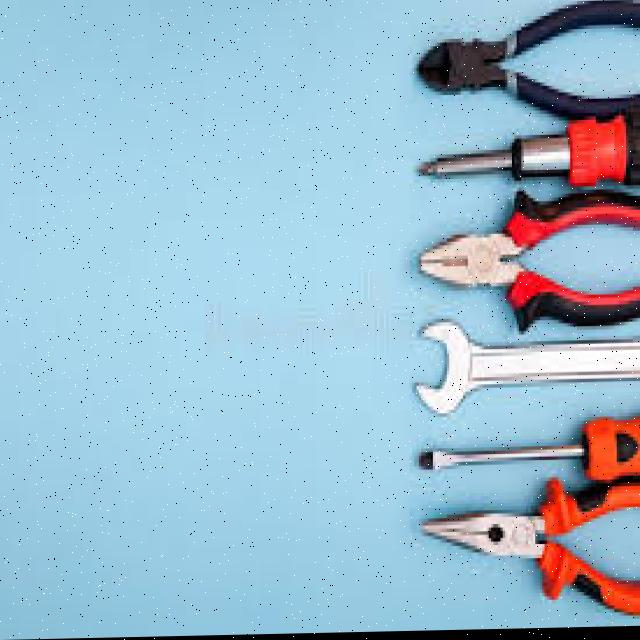Screwdriver: (419, 111, 640, 187), (419, 419, 640, 484)
